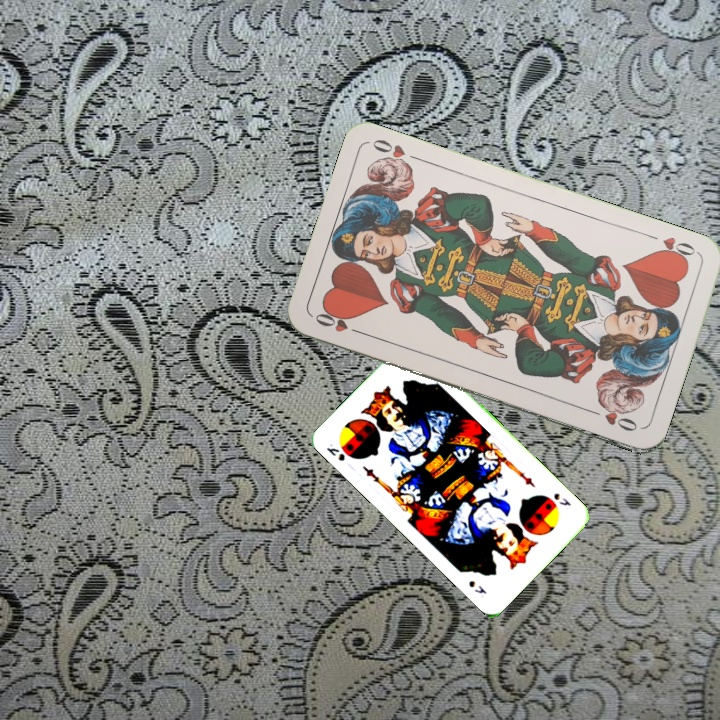HO: (643, 230, 701, 265), (311, 309, 367, 338)
SK: (322, 440, 348, 464), (550, 489, 574, 509)
